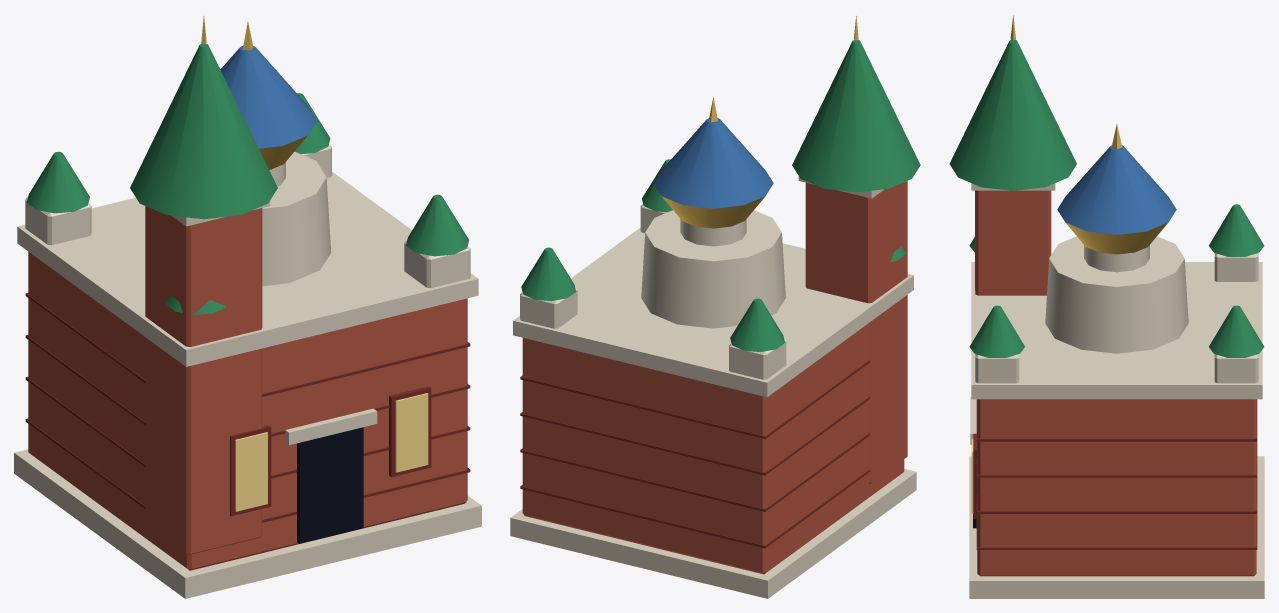
The model's file is bld_kazan.glb.
3 renders of one model, left to right at view 1: azimuth 30°, elevation 25°; view 2: azimuth 150°, elevation 25°; view 3: azimuth 270°, elevation 25°, orthographic. The views are drawn at different scales.
Parts seen in each view (by area): view 1: bld_kazan; view 2: bld_kazan; view 3: bld_kazan.
Part boxes in pixels (bbox=[...]): bld_kazan: bbox=[14, 16, 481, 598]; bld_kazan: bbox=[510, 16, 920, 598]; bld_kazan: bbox=[949, 15, 1264, 598].
Size of the model in its own units: 7.9 by 13.25 by 7.9.
1 material, 1 textured.
